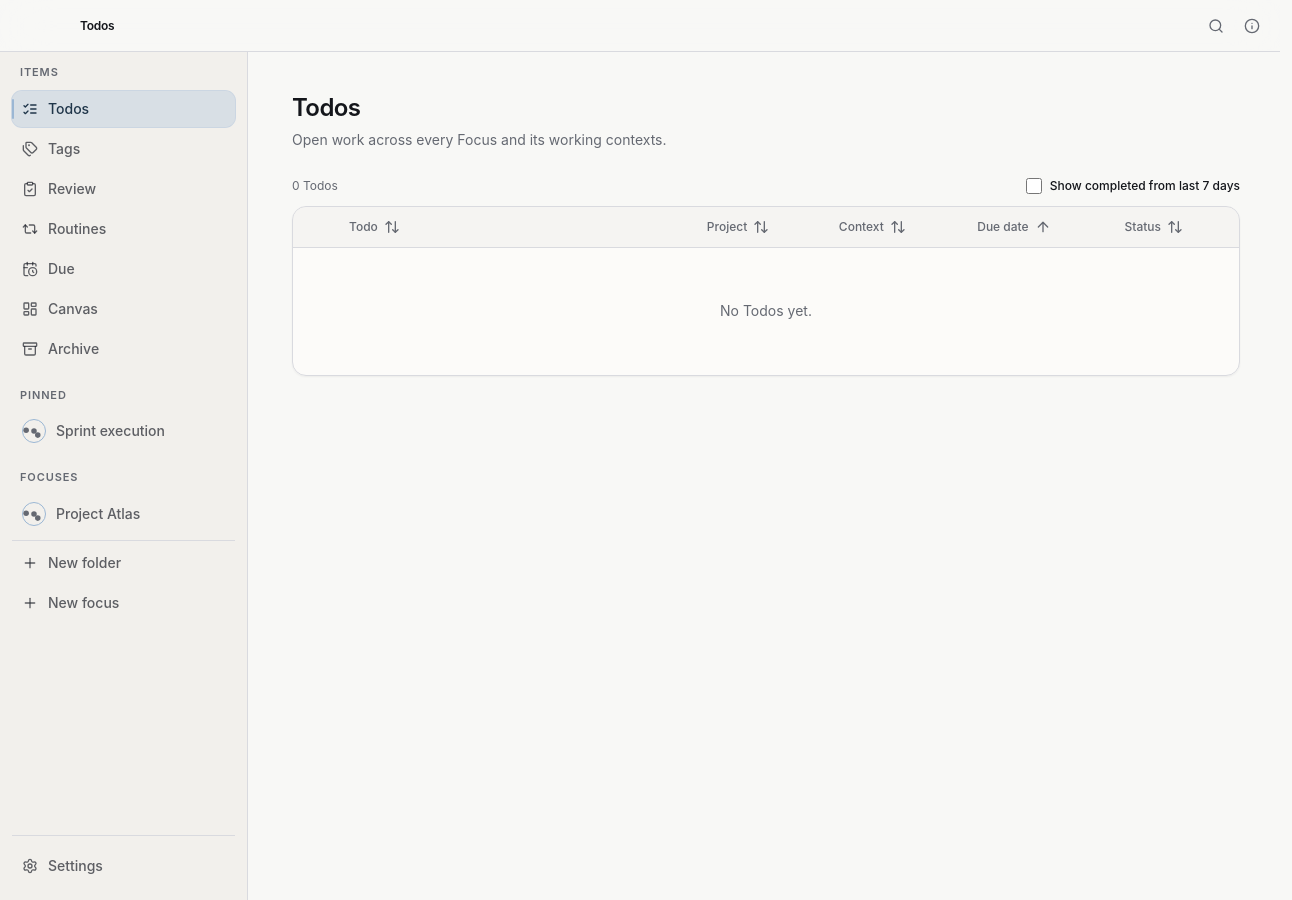
Scenario: App › opens a pinned Thread on its parentless Overview projection without selecting a Commitment
The width and height of the screenshot is (1292, 900).
Check: the text "#T21" is not shown
What coordinates should you click on to do the following:
click the button with aria-label "Sprint execution, pinned Thread"
I would click on:
 (124, 431)
Its box is [12,413,235,449].
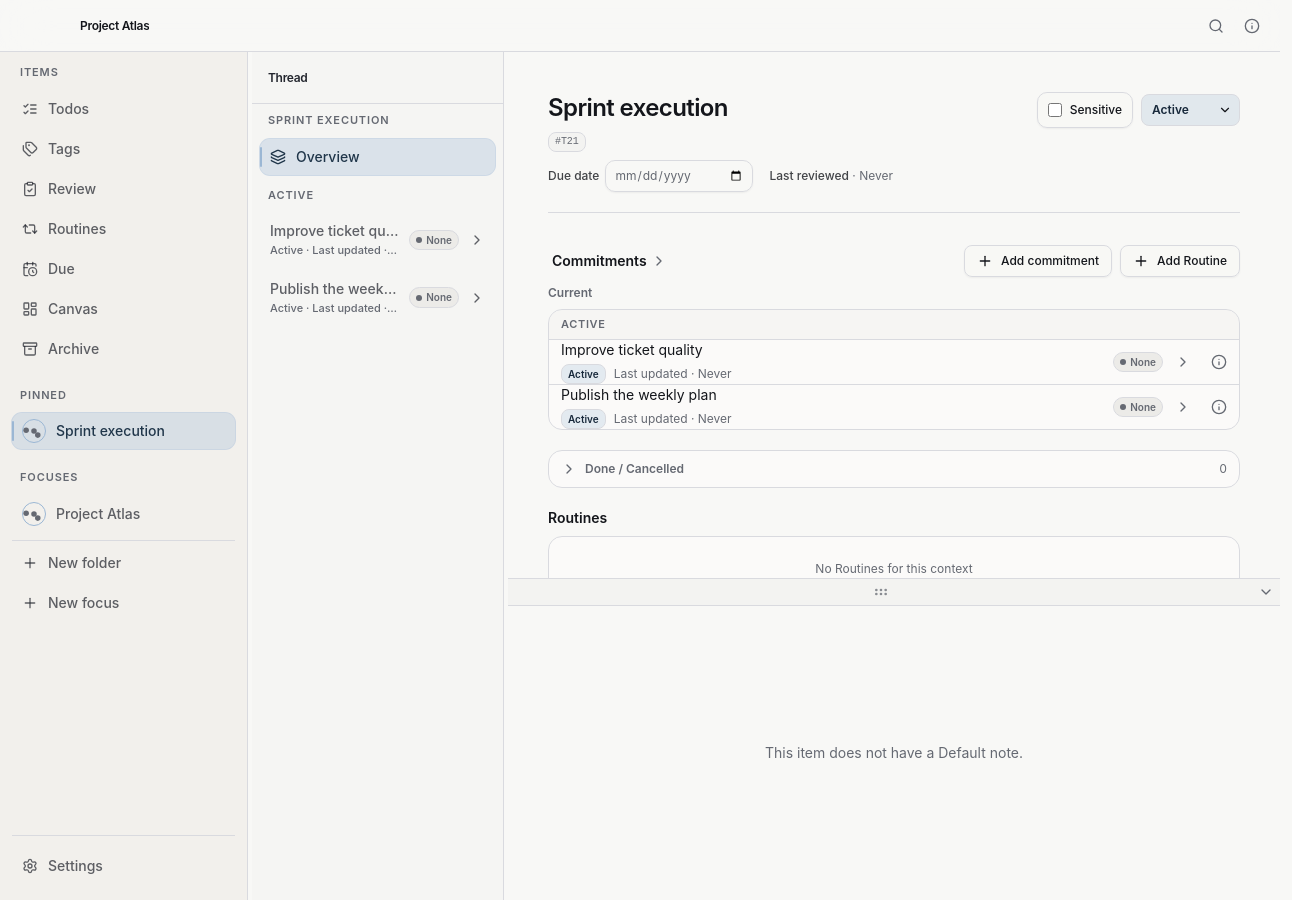
Check: the heading "Sprint execution" is shown, box [548,93,728,122]
What coordinates should you click on to do the following:
click the button "Publish the weekly plan"
I would click on:
 (378, 298)
Its box is [260,271,495,324].
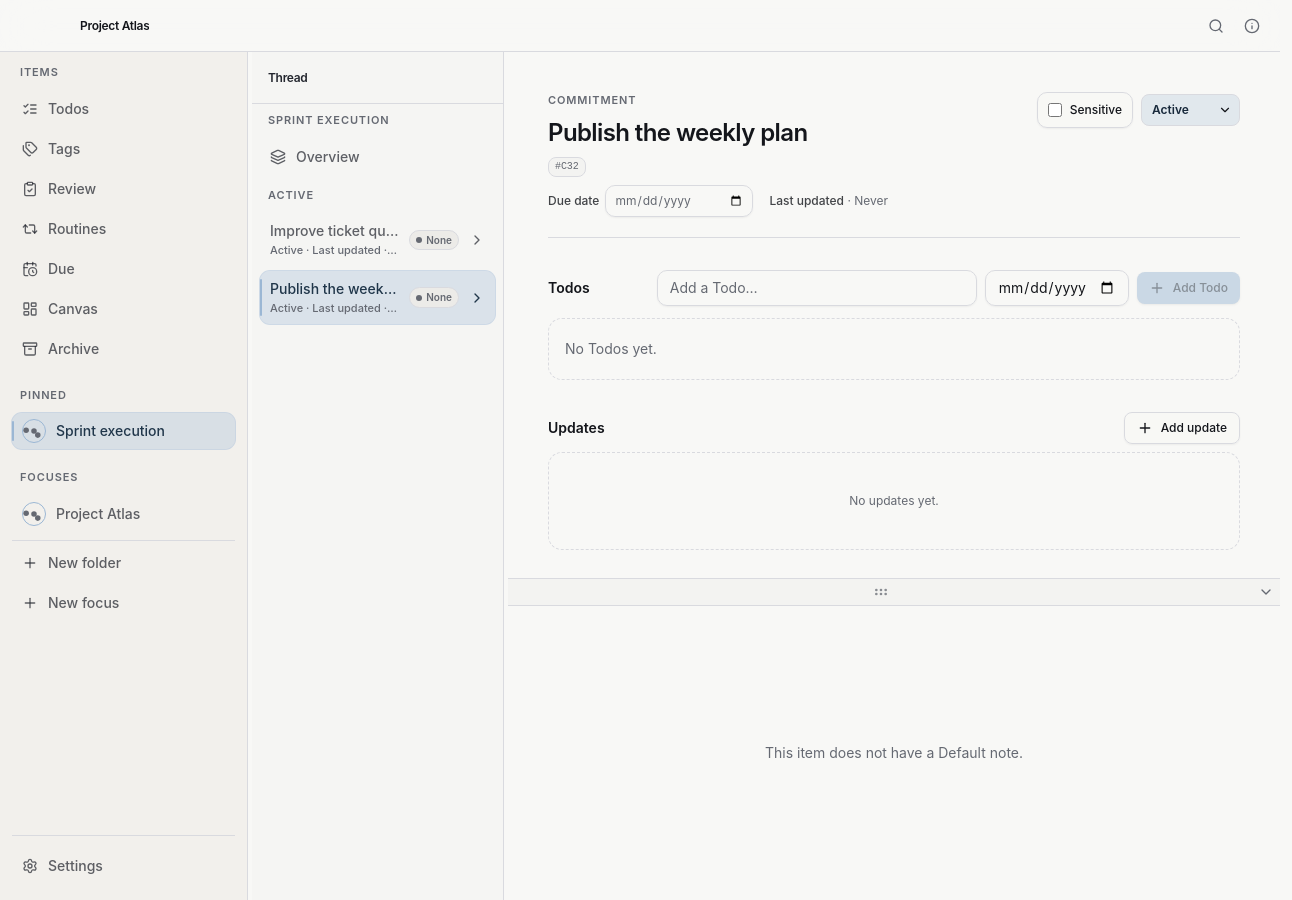
Check: the heading "Publish the weekly plan" is shown, box [548,118,808,146]
What coordinates should you click on to do the following:
click the button "Project Atlas"
I would click on:
 (124, 514)
Its box is [12,496,235,532].
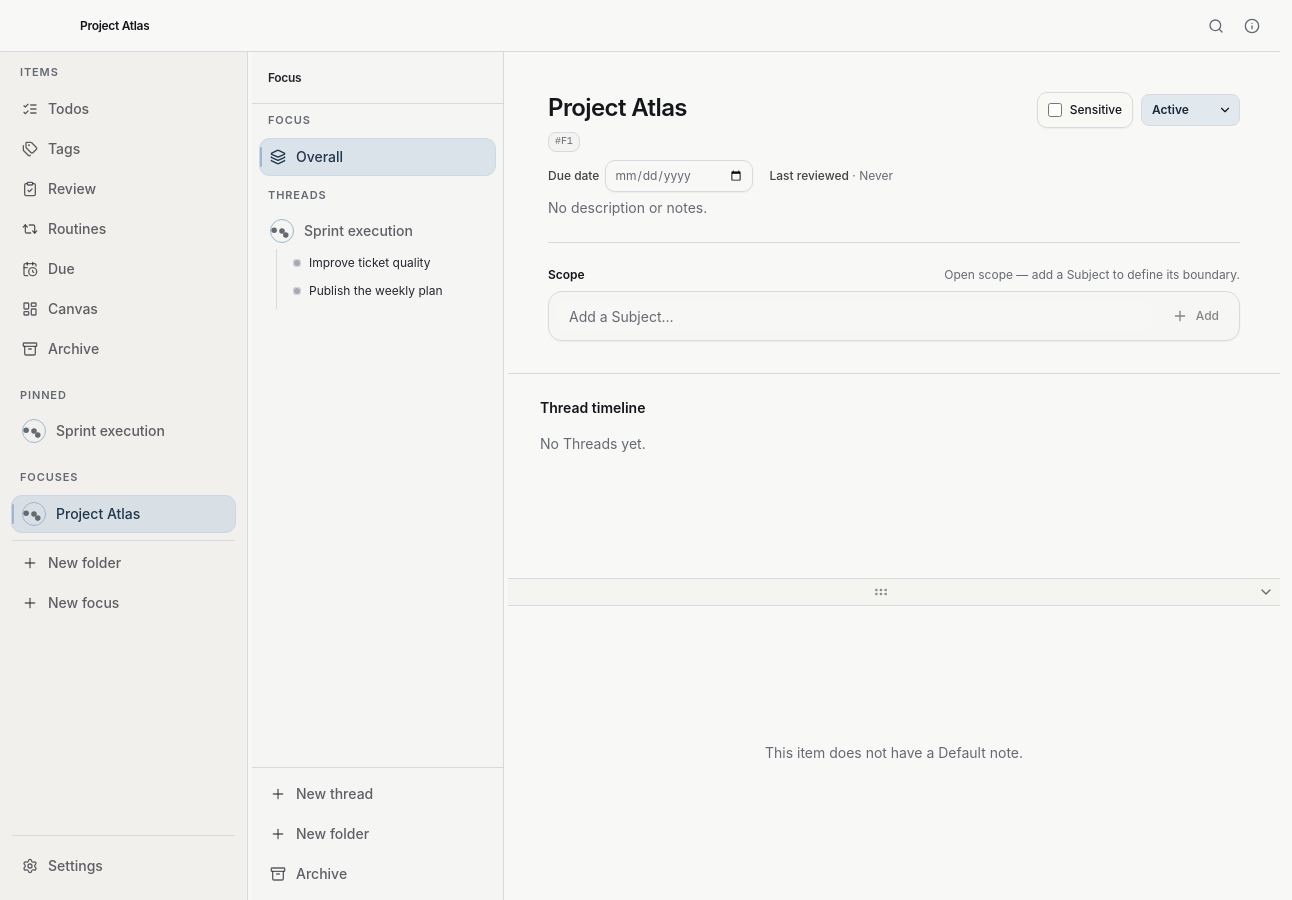
Check: the navigation bar named "Focus sections" is shown, box [260,112,495,309]
Check: the heading "Project Atlas" is shown, box [548,93,687,122]
